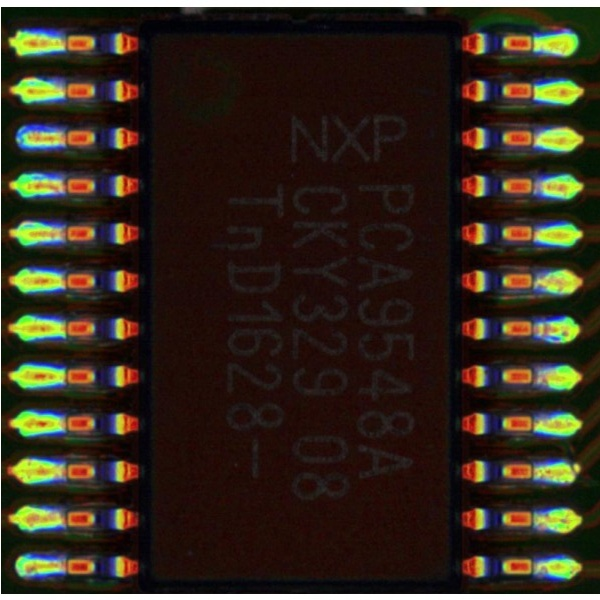Bad_podu: (45, 180, 76, 194), (45, 228, 76, 241), (47, 514, 79, 526), (48, 132, 78, 144), (47, 561, 77, 573)
